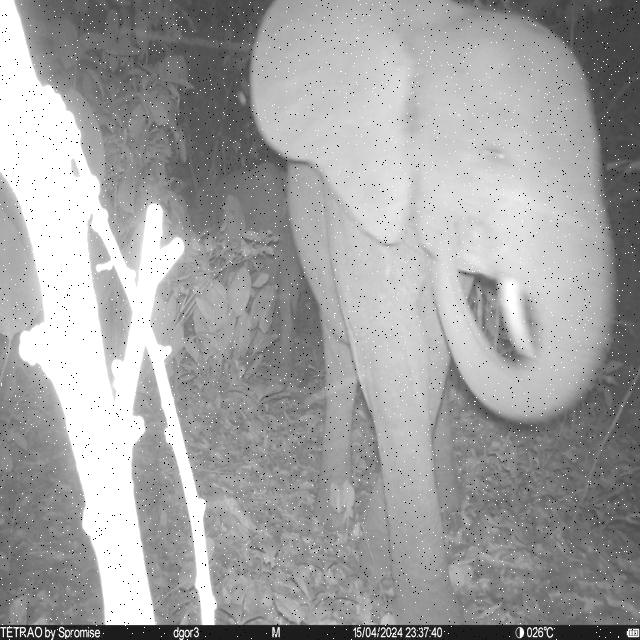calf: (202, 164, 301, 376)
ear: (248, 1, 417, 248)
elephant: (248, 0, 618, 625)
tusk: (495, 276, 539, 362)
